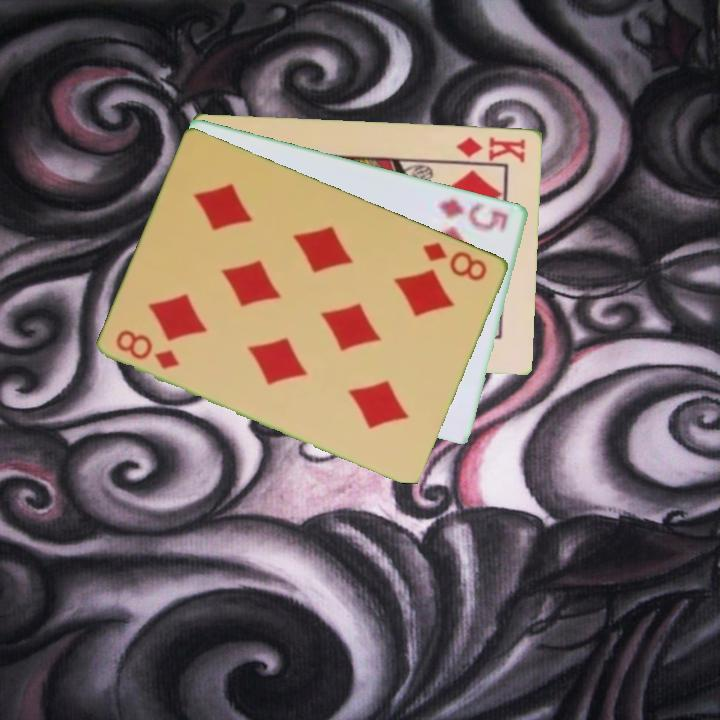5d: (434, 195, 512, 236)
8d: (419, 238, 491, 284), (113, 326, 184, 372)
Kd: (453, 133, 529, 165)
